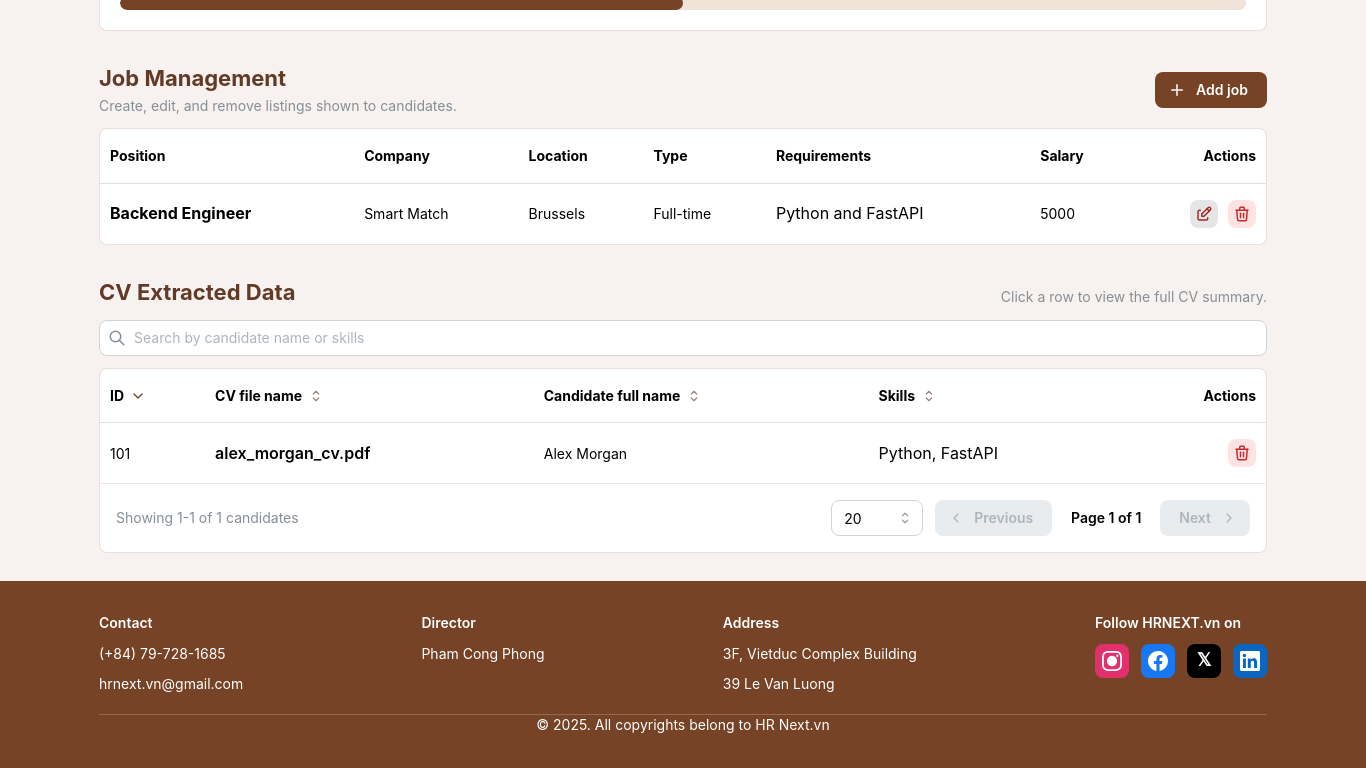
Admin login and executive view › renders CV rows and opens the detail modal when a row is clicked
The width and height of the screenshot is (1366, 768).
(page scrolled)
What coordinates should you click on to do the following:
click the text "alex_morgan_cv.pdf"
I would click on:
 (293, 453)
Its box is [100, 423, 1266, 484].
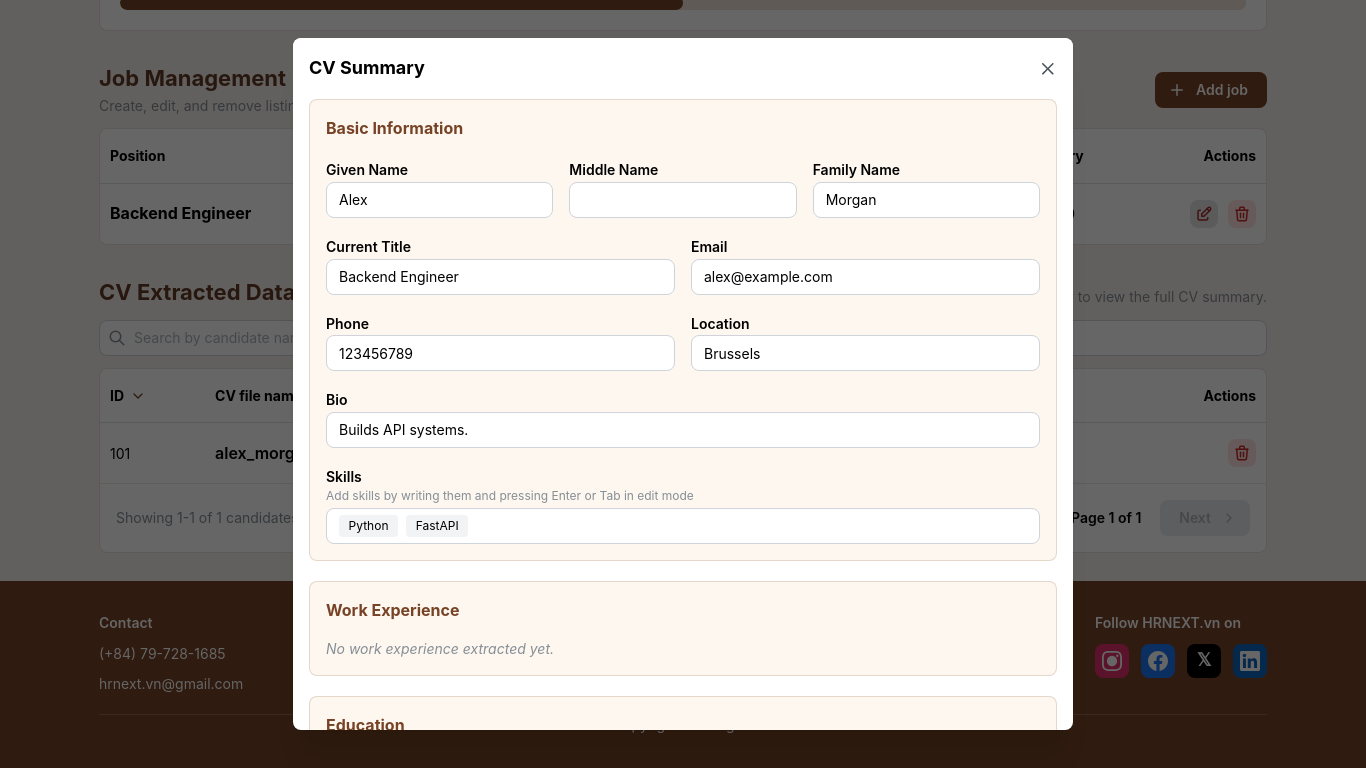
Expected: the text "CV Summary" is shown, [309, 54, 425, 83]
Expected: the field labelled "Given Name" is shown, [326, 182, 553, 218]
Expected: the field labelled "Family Name" is shown, [813, 182, 1040, 218]
